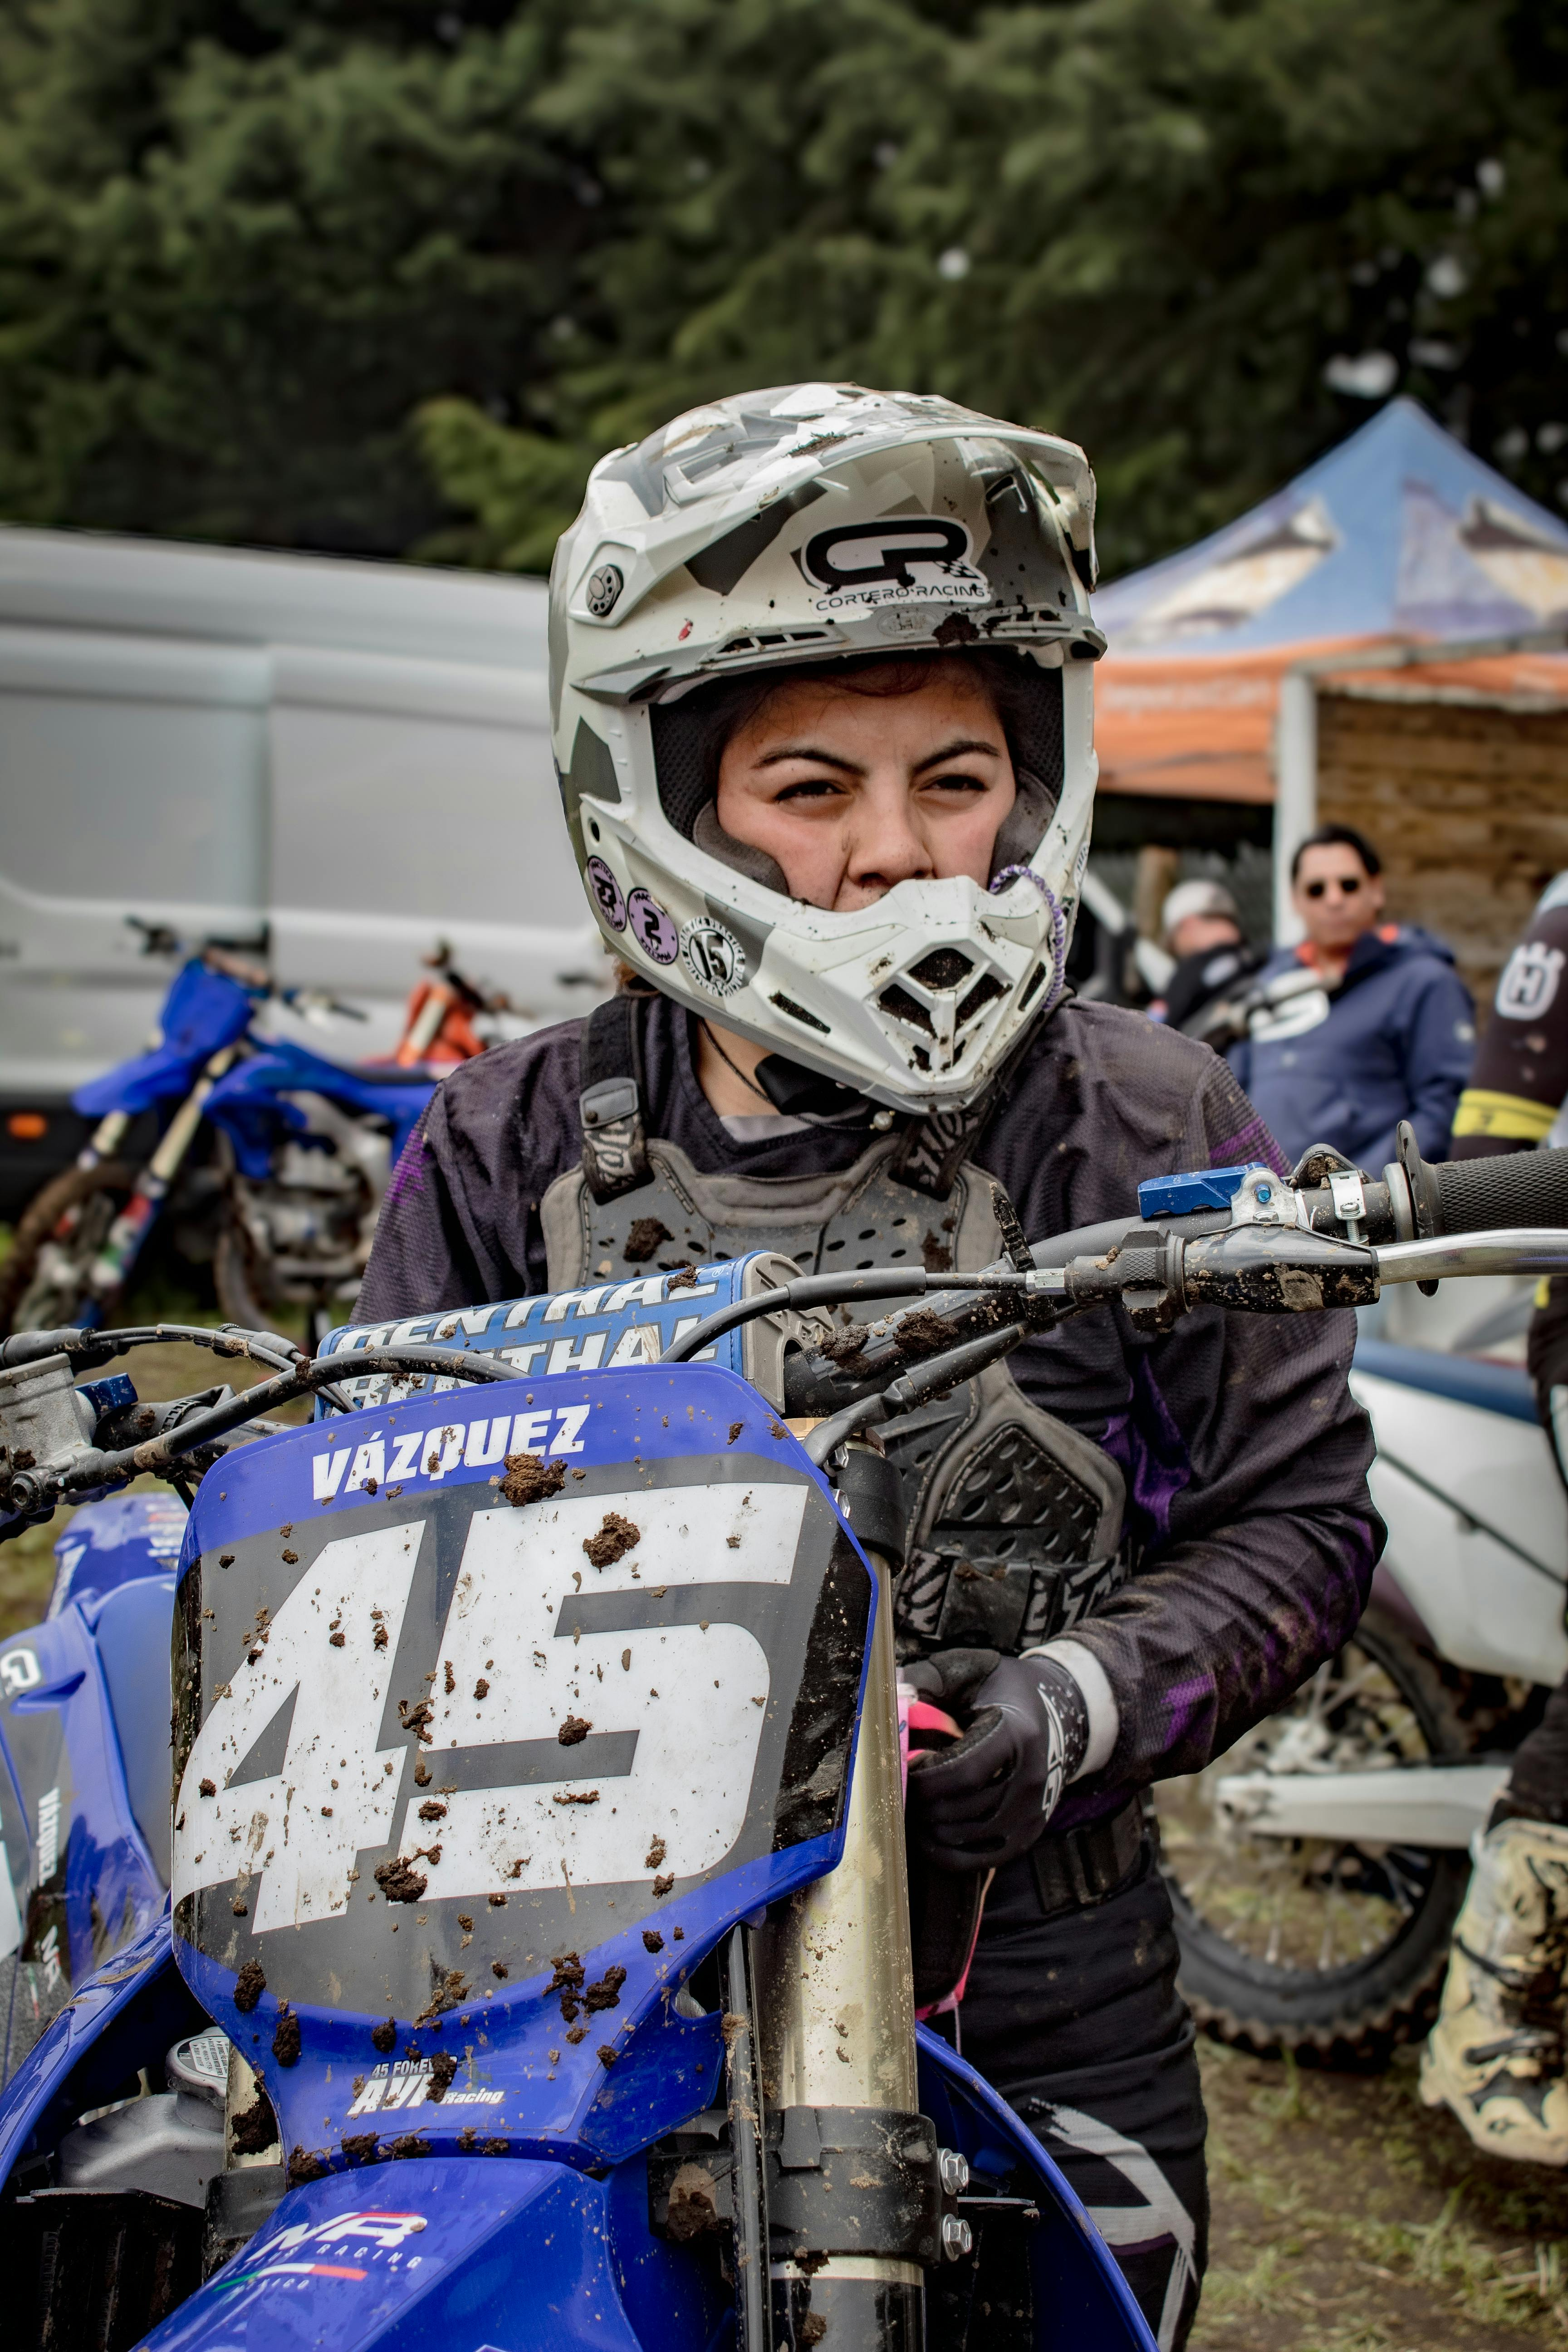capacete: (528, 371, 1108, 1120)
